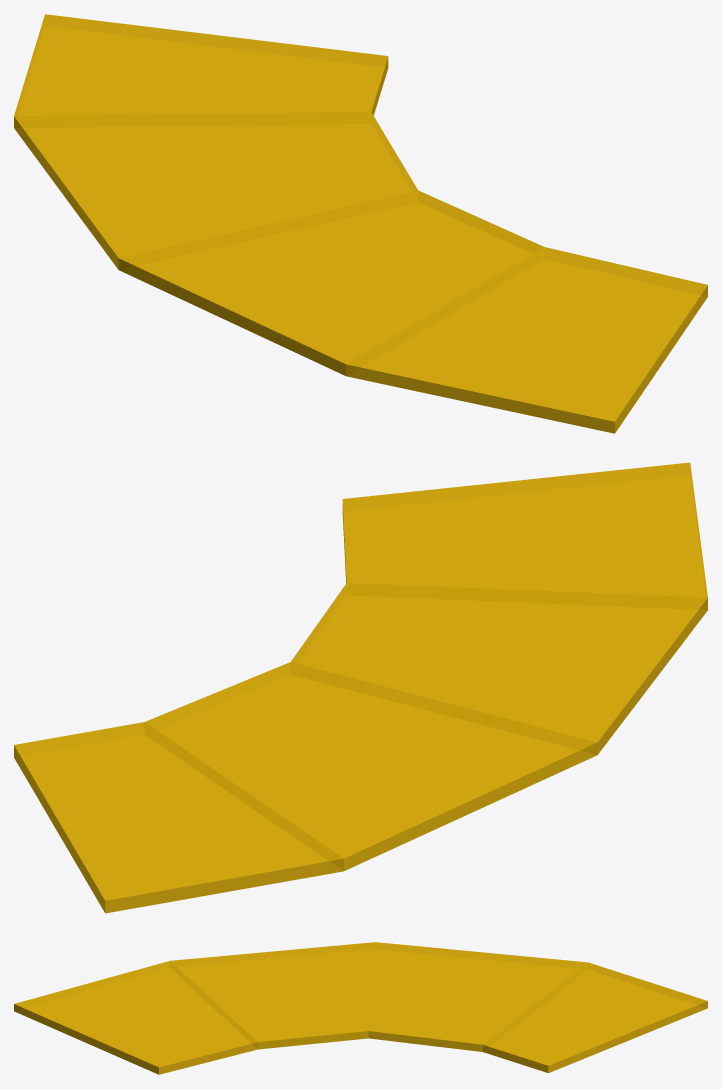
Rendered from SM_Bld_Dock_Round_02_Collision.fbx.
3 views of the same model, one above another, from view 1: azimuth 30°, elevation 25°; view 2: azimuth 150°, elevation 25°; view 3: azimuth 270°, elevation 25° (orthographic). The views are drawn at different scales.
Parts seen in each view (by area): view 1: SM_Bld_Dock_Round_02_Collision; view 2: SM_Bld_Dock_Round_02_Collision; view 3: SM_Bld_Dock_Round_02_Collision.
Part boxes in pixels (x1,y1,x2,y2): SM_Bld_Dock_Round_02_Collision: (14, 14, 707, 433); SM_Bld_Dock_Round_02_Collision: (14, 462, 707, 913); SM_Bld_Dock_Round_02_Collision: (14, 942, 707, 1074).
Bounding box in the file's own units: 376 × 10.33 × 879.
